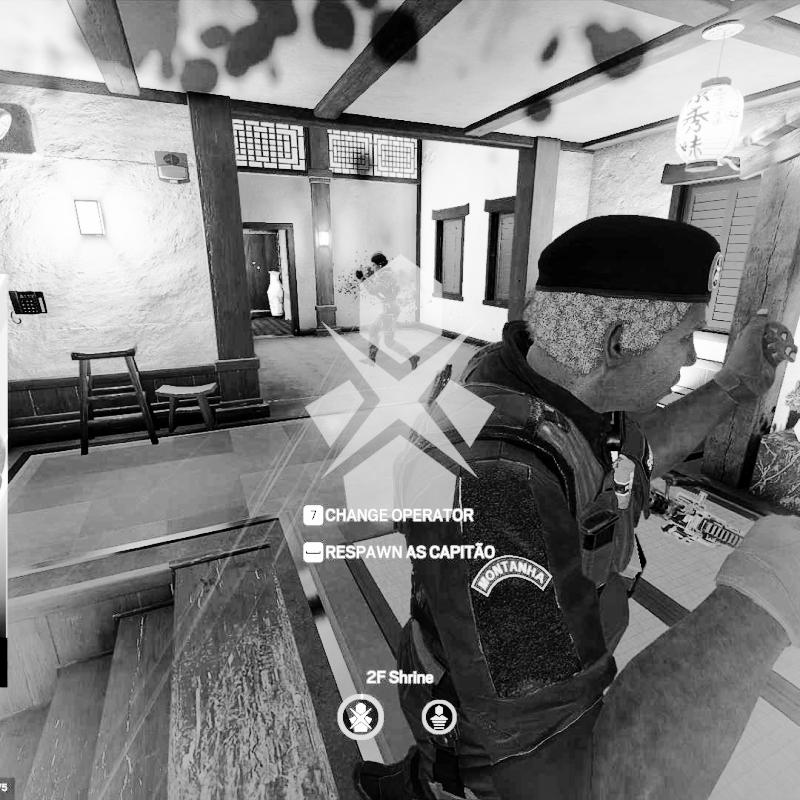Character: (372, 181, 800, 790), (351, 248, 422, 372)
Head: (528, 205, 724, 421), (370, 251, 390, 272)
